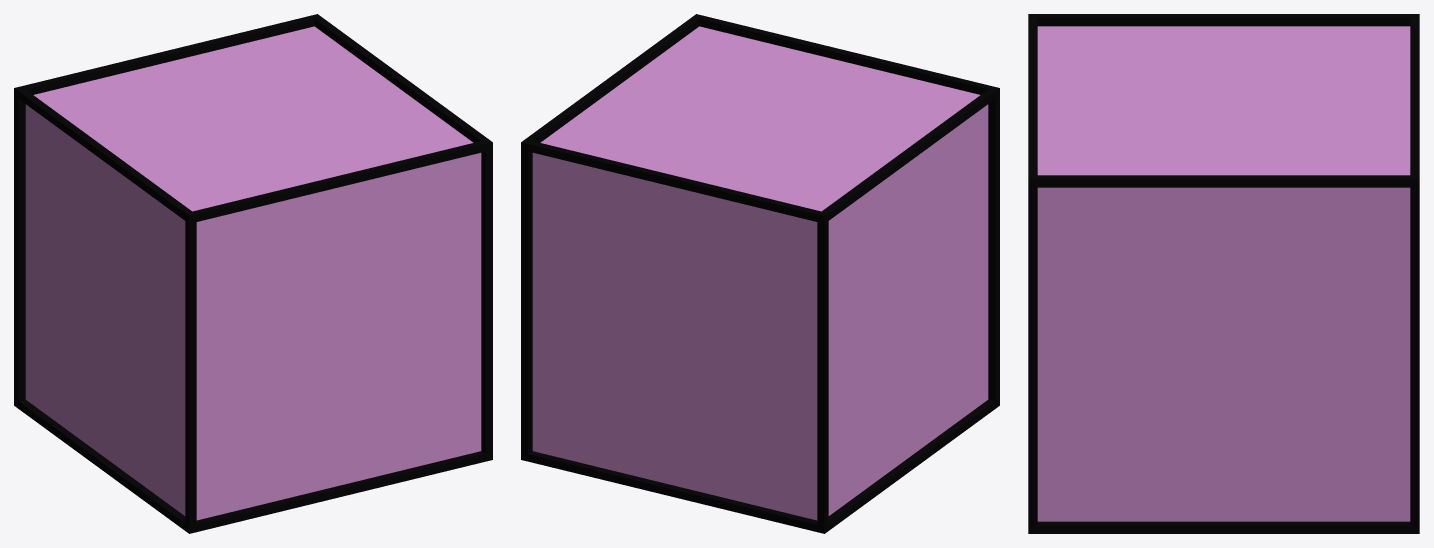
The model's file is purpleOutline.fbx.
3 views of the same model, side by side, from view 1: azimuth 30°, elevation 25°; view 2: azimuth 150°, elevation 25°; view 3: azimuth 270°, elevation 25° (orthographic). The views are drawn at different scales.
Parts seen in each view (by area): view 1: purpleOutline; view 2: purpleOutline; view 3: purpleOutline.
Part boxes in pixels (bbox=[...]): purpleOutline: bbox=[14, 14, 492, 533]; purpleOutline: bbox=[521, 14, 999, 533]; purpleOutline: bbox=[1028, 14, 1419, 533].
Bounding box in the file's own units: 1.05 × 1.05 × 1.05.
